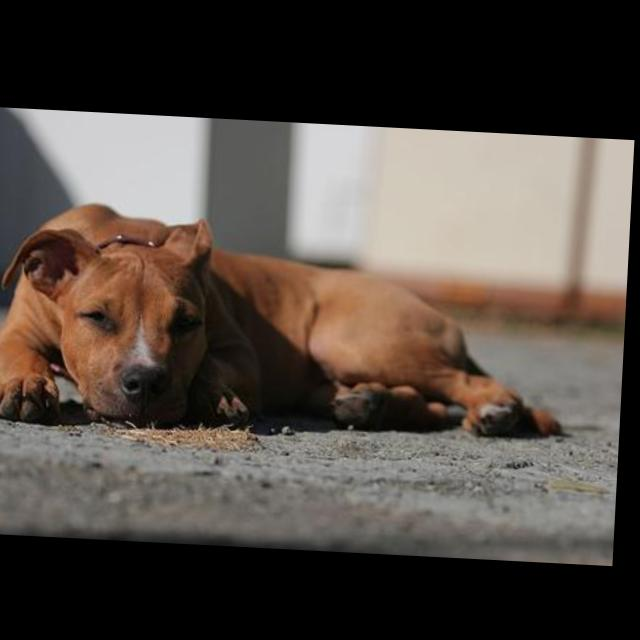amstaff: (1, 198, 577, 446)
